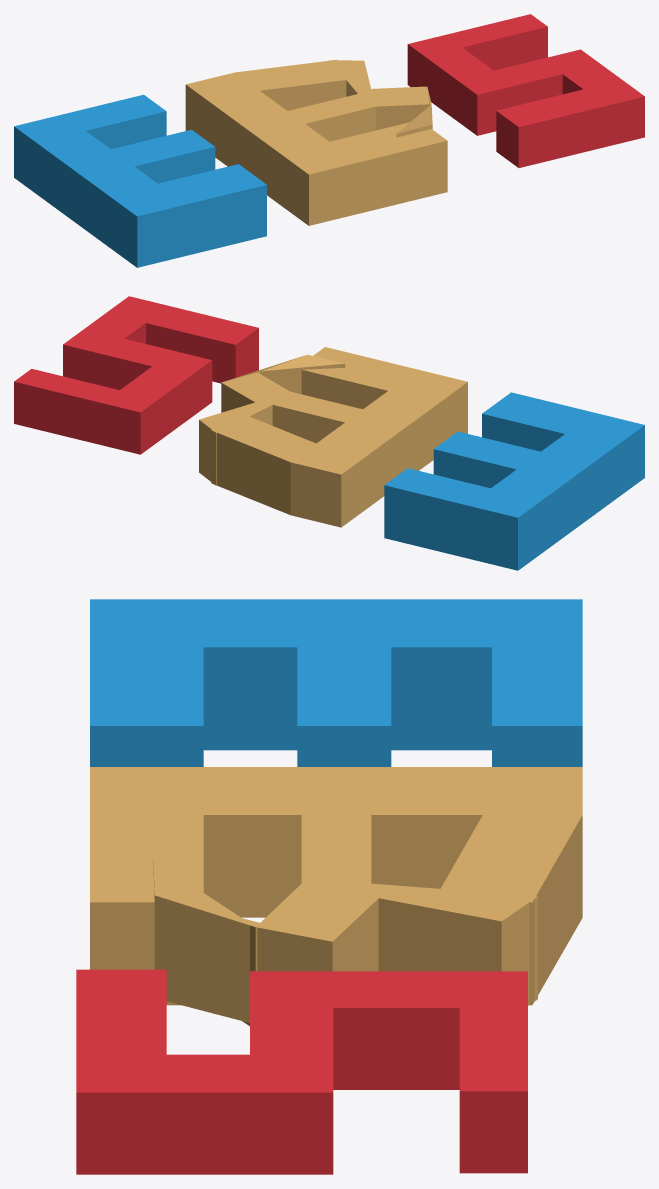
3 views of the same model, one above another, from view 1: azimuth 30°, elevation 25°; view 2: azimuth 150°, elevation 25°; view 3: azimuth 270°, elevation 25° (orthographic). The views are drawn at different scales.
Parts seen in each view (by area): view 1: Cube.001, Cube, Cube.002; view 2: Cube.001, Cube, Cube.002; view 3: Cube.001, Cube, Cube.002.
Part boxes in pixels (x1,y1,x2,y2): Cube.001: (185, 59, 447, 225); Cube: (14, 94, 266, 267); Cube.002: (407, 14, 644, 167); Cube.001: (199, 347, 467, 527); Cube: (384, 392, 644, 570); Cube.002: (14, 296, 258, 454); Cube.001: (90, 767, 582, 1025); Cube: (90, 599, 582, 766); Cube.002: (76, 969, 527, 1174).
Bounding box in the file's own units: 20.52 × 2.16 × 8.92.
